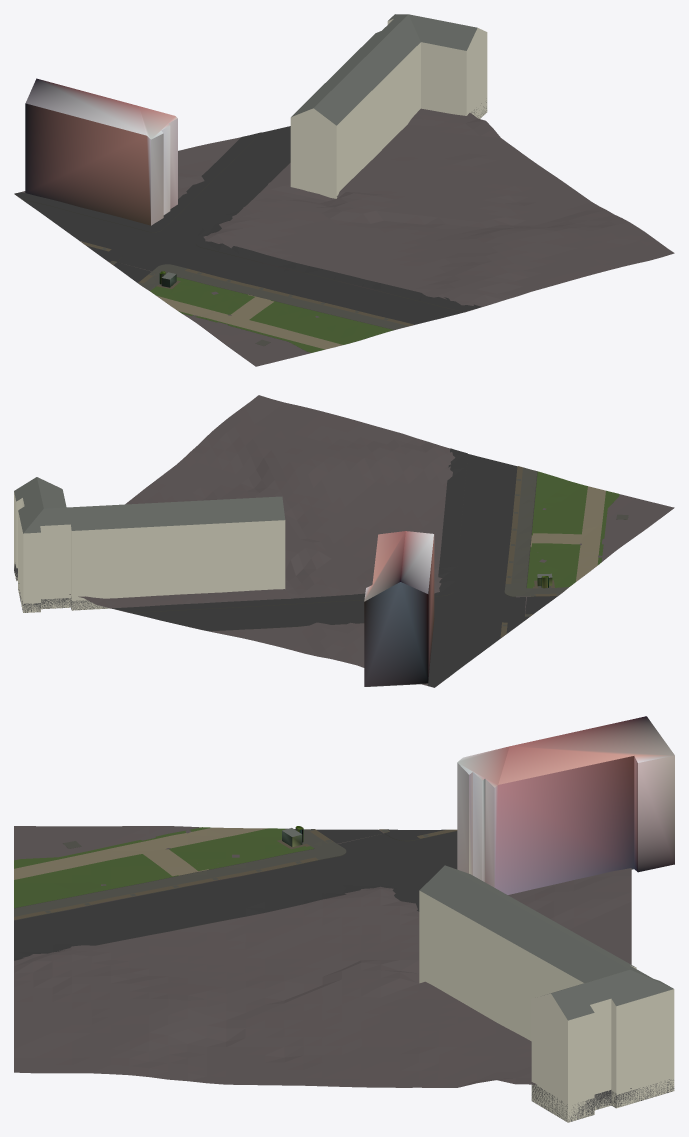
3 views of the same model, one above another, from view 1: azimuth 30°, elevation 25°; view 2: azimuth 150°, elevation 25°; view 3: azimuth 270°, elevation 25° (orthographic). The views are drawn at different scales.
Visible parts, largest first — view 1: c_m14_m11; view 2: c_m14_m11; view 3: c_m14_m11.
Boxes of the visible parts, x1,y1,x2,y2 form: c_m14_m11: [14, 14, 674, 366]; c_m14_m11: [14, 395, 674, 687]; c_m14_m11: [14, 716, 674, 1122].
Size of the model in its own units: 137 by 33.18 by 137.
